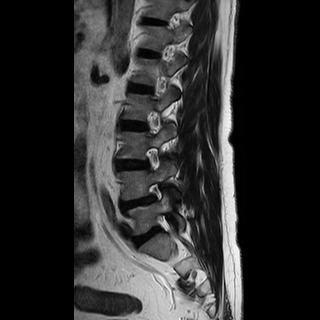LFS0: (138, 142, 166, 175), (144, 176, 171, 208)
